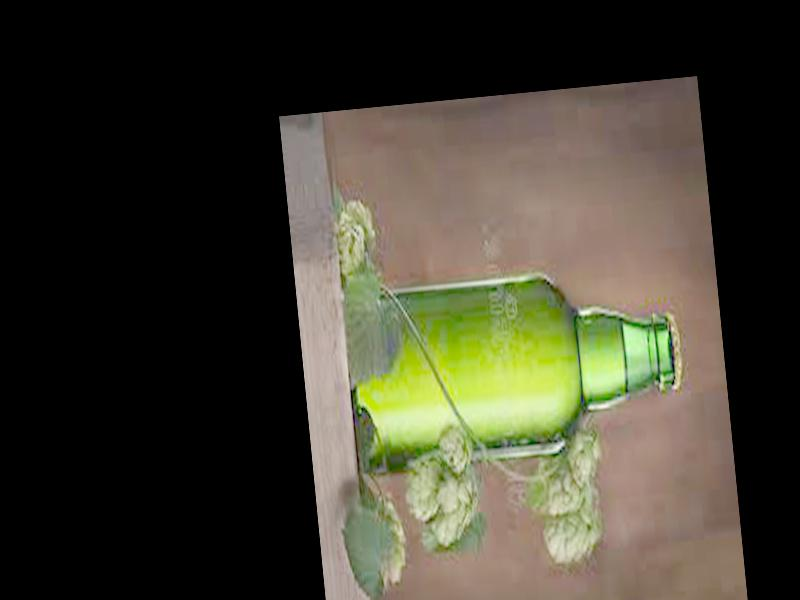Beer: (335, 259, 690, 468)
